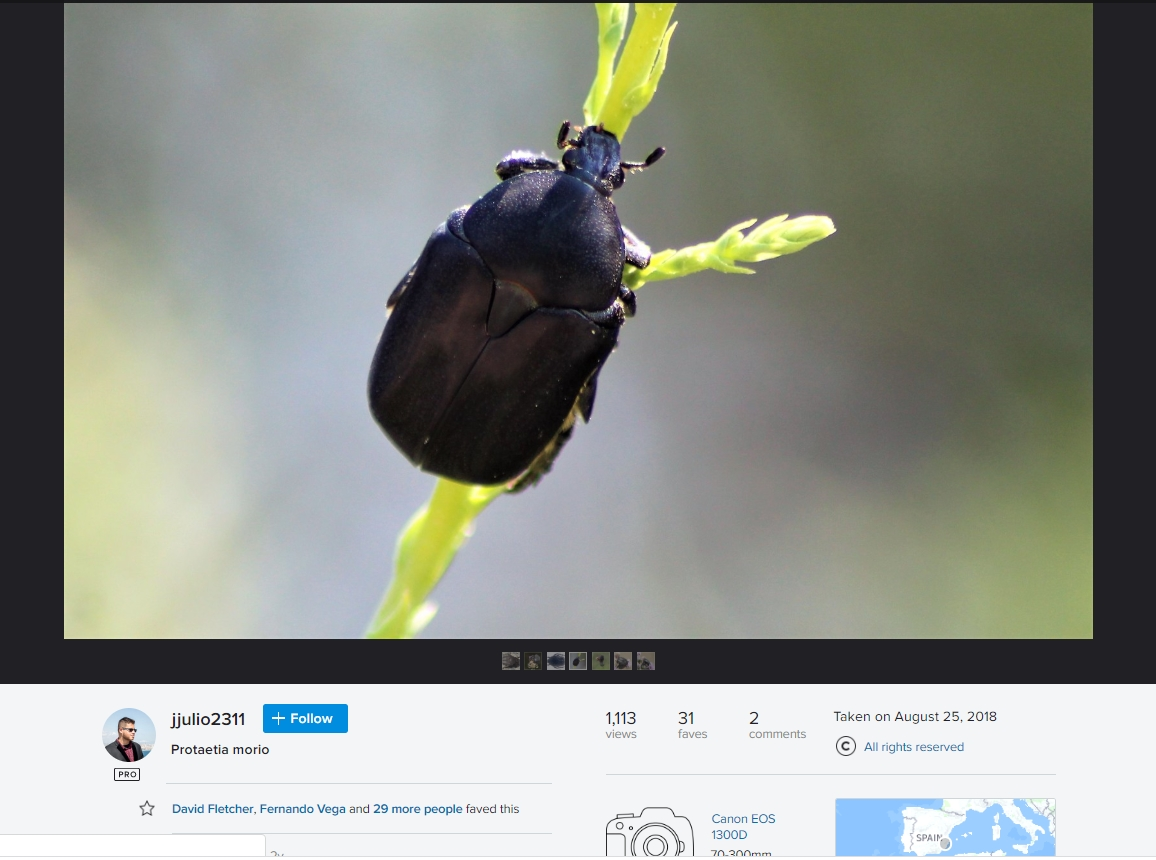Protaetia_morio_morio: (360, 113, 681, 502)
